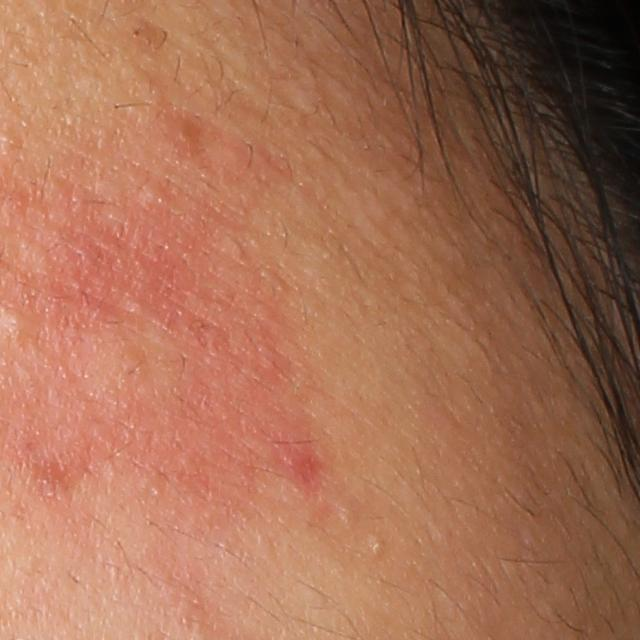comedo: (369, 538, 389, 560)
